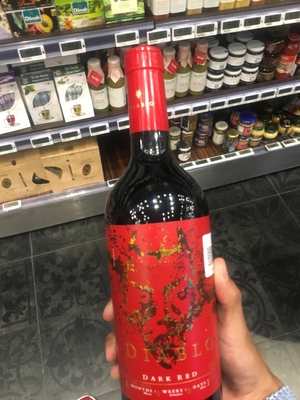diablo dark red: (94, 47, 238, 400)
